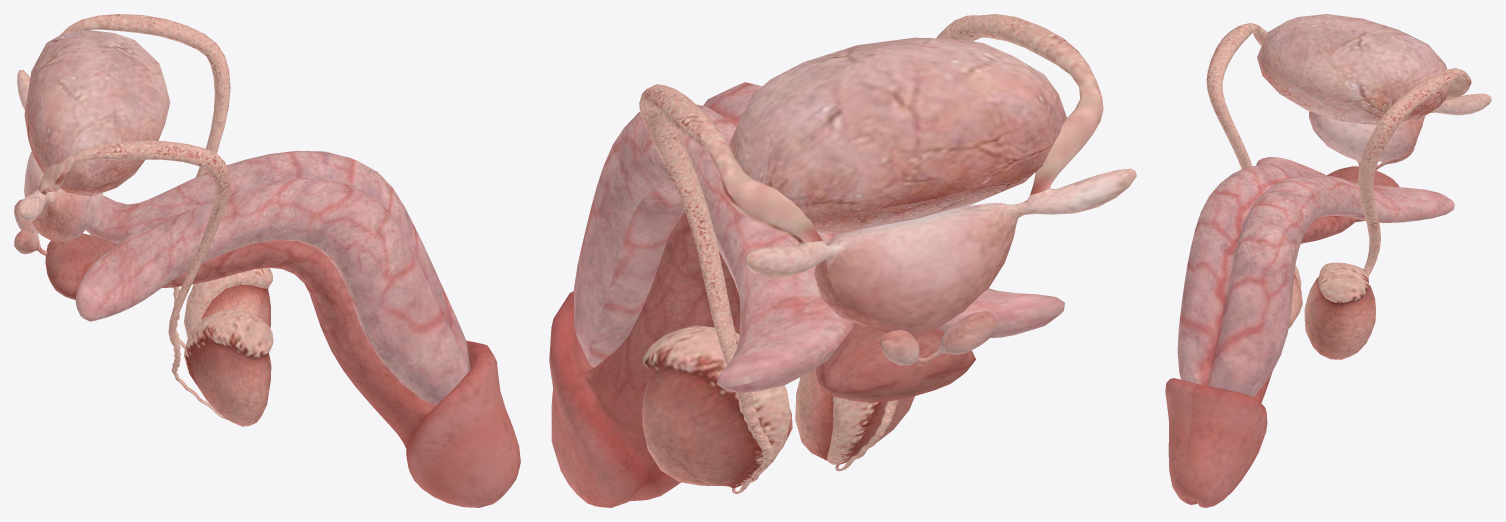
The model's file is reproductive-system.glb.
3 views of the same model, side by side, from view 1: azimuth 30°, elevation 25°; view 2: azimuth 150°, elevation 25°; view 3: azimuth 270°, elevation 25° (orthographic). The views are drawn at different scales.
Parts seen in each view (by area): view 1: 3; view 2: 3; view 3: 3.
Boxes of the visible parts, bbox=[...] form: 3: bbox=[14, 14, 520, 507]; 3: bbox=[549, 14, 1136, 507]; 3: bbox=[1165, 14, 1491, 507].
Size of the model in its own units: 1.43 by 1.37 by 1.11.
Materials: 1 (1 with a texture image).
